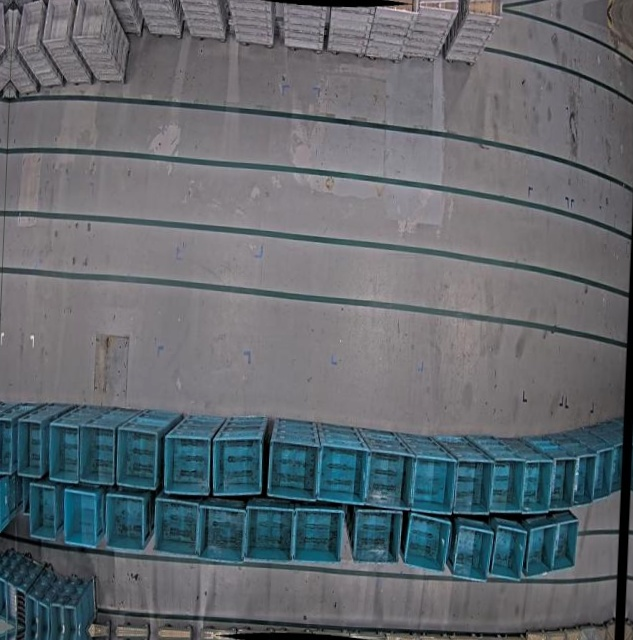Box: (211, 431, 264, 497), (266, 437, 320, 501), (163, 430, 213, 497), (244, 502, 296, 565), (152, 494, 202, 558), (293, 505, 344, 567), (316, 442, 366, 505), (200, 502, 249, 565), (352, 506, 403, 566), (115, 425, 160, 492), (410, 453, 457, 515), (403, 512, 450, 574), (103, 491, 149, 554), (364, 447, 408, 510), (453, 522, 494, 582), (63, 487, 100, 548), (490, 522, 527, 581), (48, 419, 83, 481), (453, 457, 488, 515), (27, 481, 60, 542), (79, 422, 112, 483), (524, 522, 557, 578), (17, 416, 47, 477), (520, 456, 551, 514), (489, 456, 519, 513), (552, 517, 579, 575), (550, 455, 575, 511), (572, 450, 597, 505), (593, 446, 613, 502), (0, 416, 16, 474), (0, 475, 14, 532), (610, 441, 623, 495), (5, 580, 18, 628), (468, 6, 505, 19), (49, 601, 65, 630), (16, 586, 27, 628), (26, 593, 39, 628), (64, 605, 81, 630), (37, 601, 50, 629), (0, 576, 7, 624), (0, 569, 0, 622)
